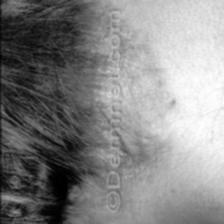Non-Cancerous Skin Condition: (21, 0, 108, 185), (124, 22, 188, 138)
